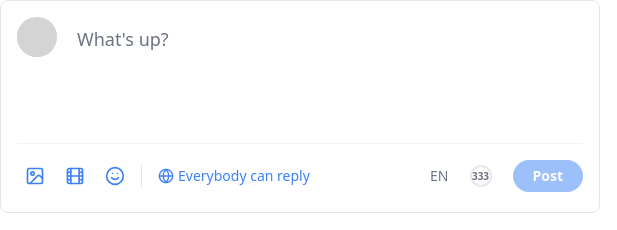
Test: Composer › enables post button when text is entered
Type "Hello world" into the text box with placeholder "What's up?" at (326, 67), box [69,17,583,117]
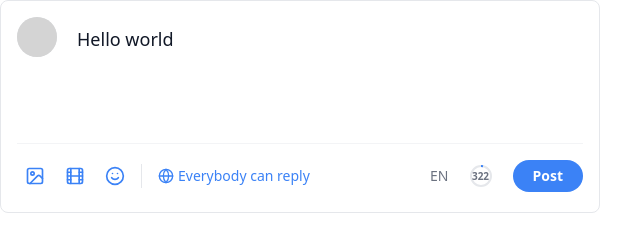
Check: the button "Post" is enabled, box [512,160,583,192]
